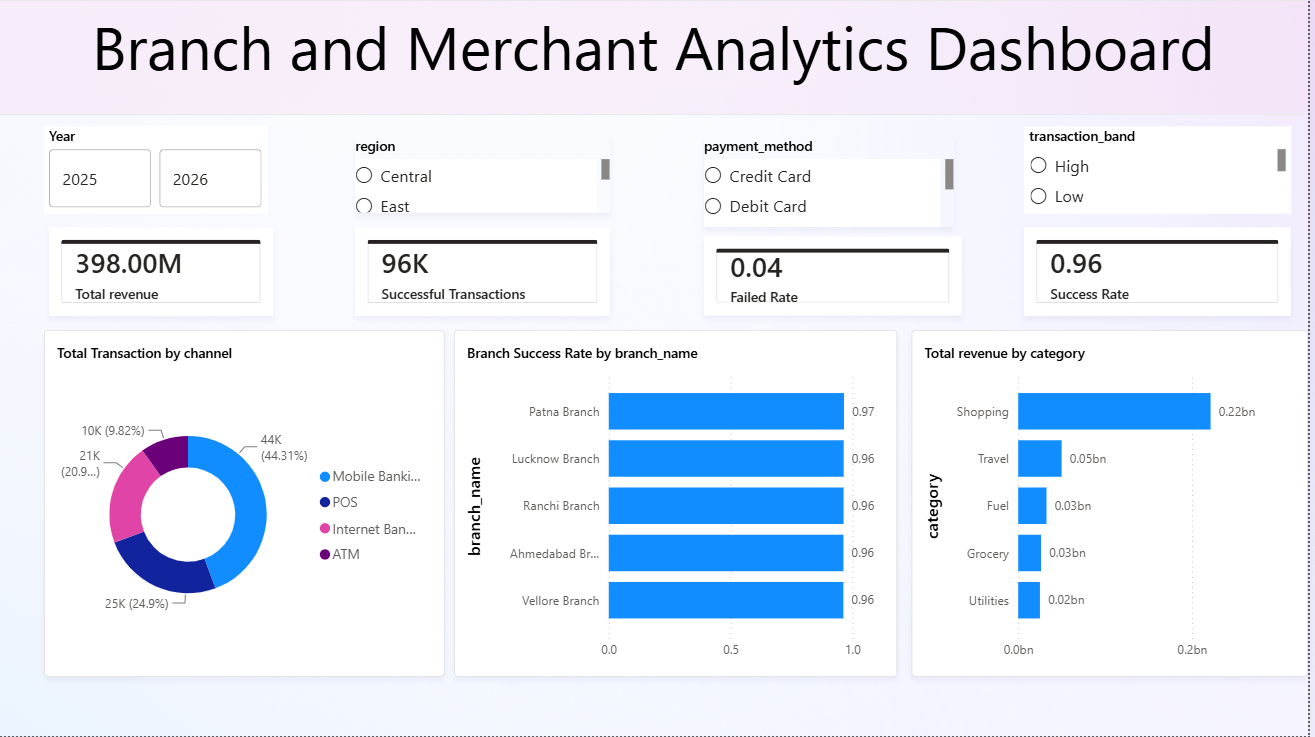

The dashboard page shown, as its layout file describes it:
{"tool":"powerbi","page":{"name":"Branch And Merchant Analytics","canvas":[1280,720],"ordinal":2},"visuals":[{"type":"textbox","box":[0,0,1280.2,112.3],"z":0},{"type":"cardVisual","fields":{"Data":["banking_master.Total revenue"]},"box":[48.3,222.5,219.1,86.5],"z":1000},{"type":"cardVisual","fields":{"Data":["banking_master.Successful Transactions"]},"box":[348.3,222.5,249.4,86.5],"z":2000},{"type":"cardVisual","fields":{"Data":["banking_master.Failed Rate"]},"box":[689.9,231.5,252.8,77.5],"z":3000},{"type":"cardVisual","fields":{"Data":["banking_master.Success Rate"]},"box":[1002.2,222.5,261.8,86.5],"z":4000},{"type":"clusteredBarChart","fields":{"Category":["banking_master.category"],"Y":["banking_master.Total revenue"]},"box":[892.1,322.5,387.6,339.3],"z":5000},{"type":"donutChart","fields":{"Category":["banking_master.channel"],"Y":["banking_master.Total Transaction"]},"box":[43.8,322.5,392.1,339.3],"z":6000},{"type":"clusteredBarChart","fields":{"Category":["banking_master.branch_name"],"Y":["banking_master.Branch Success Rate"]},"box":[444.9,322.5,433.7,339.3],"z":7000},{"type":"advancedSlicerVisual","fields":{"Values":["Calendar.Date.Variation.Date Hierarchy.Year"]},"box":[43.8,123.6,219.1,85.4],"z":8000},{"type":"listSlicer","fields":{"Values":["banking_master.region"]},"box":[348.3,133.7,249.4,75.3],"z":9000},{"type":"listSlicer","fields":{"Values":["banking_master.payment_method"]},"box":[689.9,133.7,244.9,88.8],"z":10000},{"type":"listSlicer","fields":{"Values":["banking_master.transaction_band"]},"box":[1002.2,123.6,261.8,85.4],"z":11000}]}

Visuals, with their boxes in screenshot pixels (x1, y1, x2, y2), scaled from the page's 1280x720 canvas onto the 1315x737 screenshot:
textbox: (left=0, top=0, right=1314, bottom=115)
cardVisual - banking_master.Total revenue: (left=50, top=228, right=275, bottom=316)
cardVisual - banking_master.Successful Transactions: (left=358, top=228, right=614, bottom=316)
cardVisual - banking_master.Failed Rate: (left=709, top=237, right=968, bottom=316)
cardVisual - banking_master.Success Rate: (left=1030, top=228, right=1299, bottom=316)
clusteredBarChart - banking_master.category x banking_master.Total revenue: (left=916, top=330, right=1314, bottom=677)
donutChart - banking_master.channel x banking_master.Total Transaction: (left=45, top=330, right=448, bottom=677)
clusteredBarChart - banking_master.branch_name x banking_master.Branch Success Rate: (left=457, top=330, right=903, bottom=677)
advancedSlicerVisual - Calendar.Date.Variation.Date Hierarchy.Year: (left=45, top=127, right=270, bottom=214)
listSlicer - banking_master.region: (left=358, top=137, right=614, bottom=214)
listSlicer - banking_master.payment_method: (left=709, top=137, right=960, bottom=228)
listSlicer - banking_master.transaction_band: (left=1030, top=127, right=1299, bottom=214)
